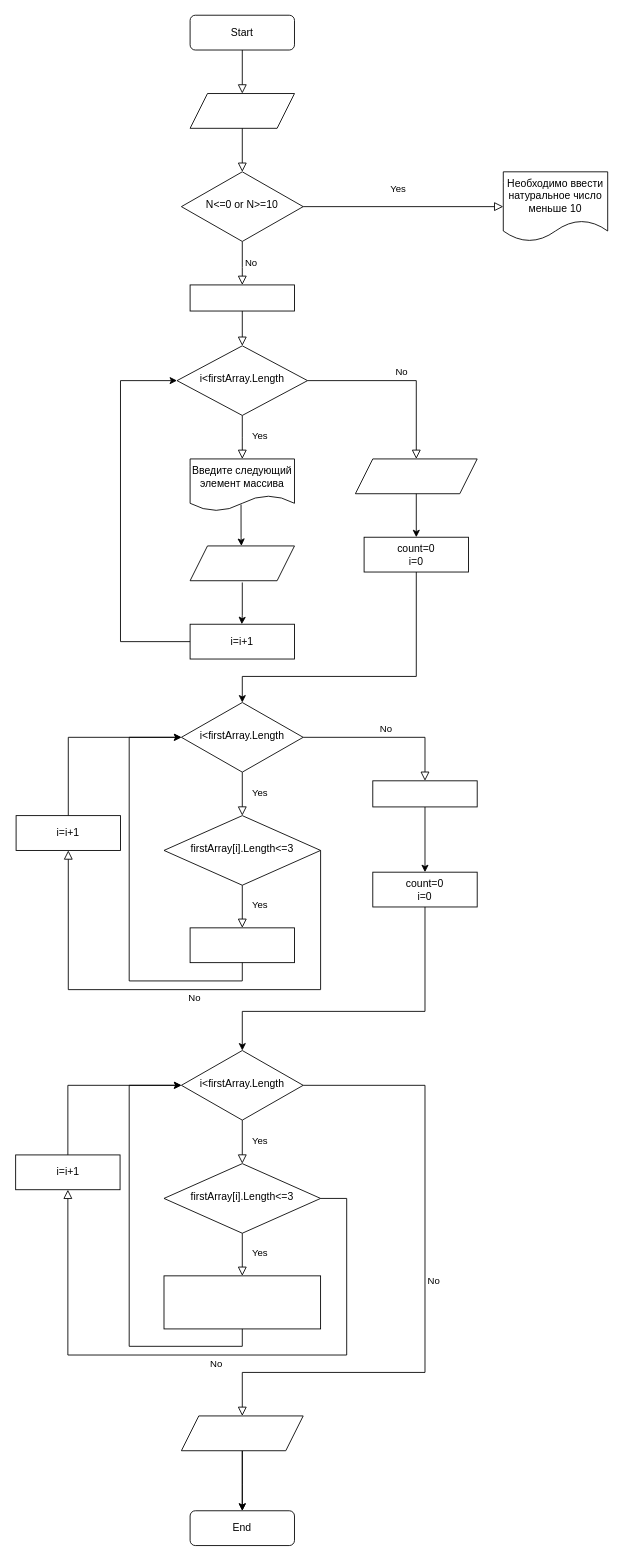
Some shapes in this 623 by 1561 pixel diagram are drawn without their labels. The shapes that lost their labels are listed below. From the top down, each one's centre as x and y in pixels, then its label:
At (x=241, y=110): "Input N".
At (x=241, y=297): "firstArray[N] i=0".
At (x=416, y=476): "Print firstArray[]".
At (x=241, y=563): "Input firstArray[i]".
At (x=424, y=793): "secondArray[count]".
At (x=241, y=945): "count=count+1 i=i+1".
At (x=242, y=1302): "secondArray[count]=firstArray[i] count=count+1 i=i+1".
At (x=242, y=1433): "Print secondArray[]".
